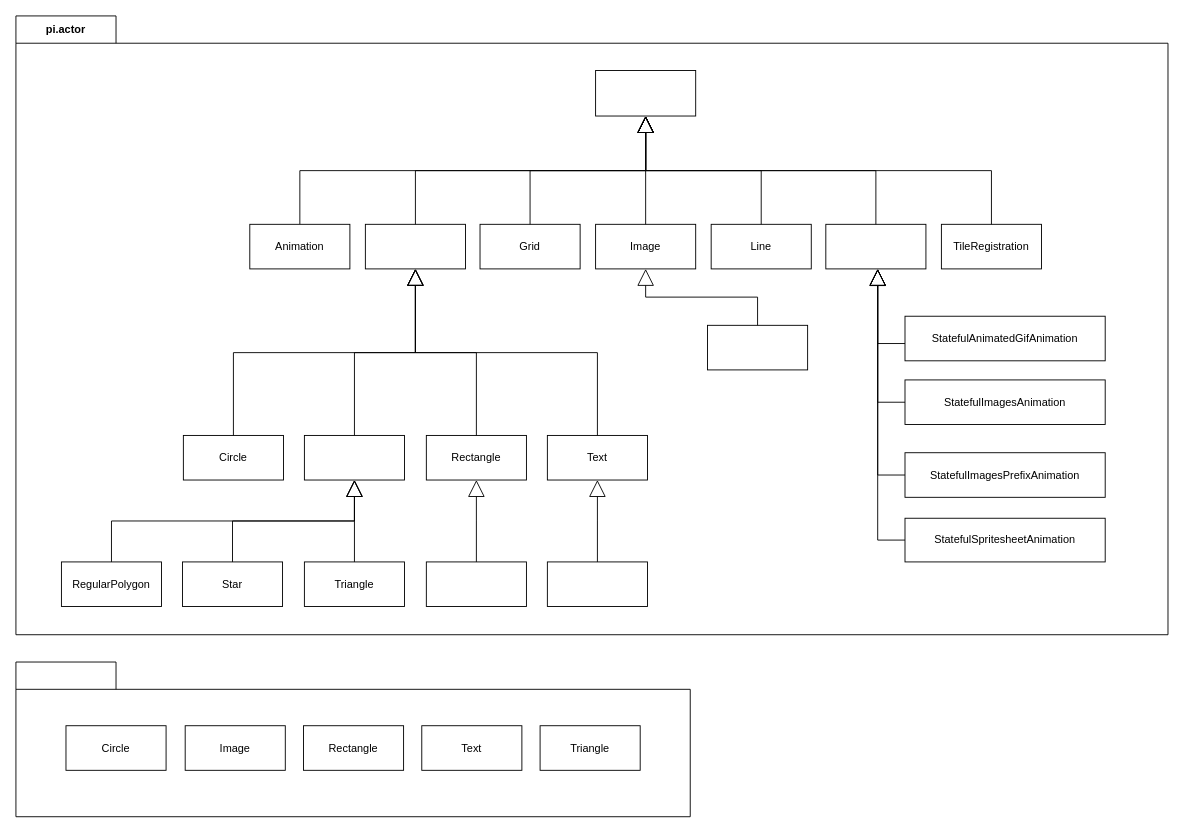
This 1184x833 diagram has some shape labels left out. The box of each missing label's shape, as (x1, y1, x2, y2) in pixels:
Actor {abstract}: (595, 70, 696, 116)
Counter: (546, 561, 647, 607)
Geometry {abstract}: (364, 223, 465, 269)
ImageFontText: (707, 324, 808, 370)
pi: (15, 661, 690, 817)
Polygon: (303, 435, 404, 480)
Square: (425, 561, 526, 607)
StatefulAnimation: (825, 223, 926, 269)
